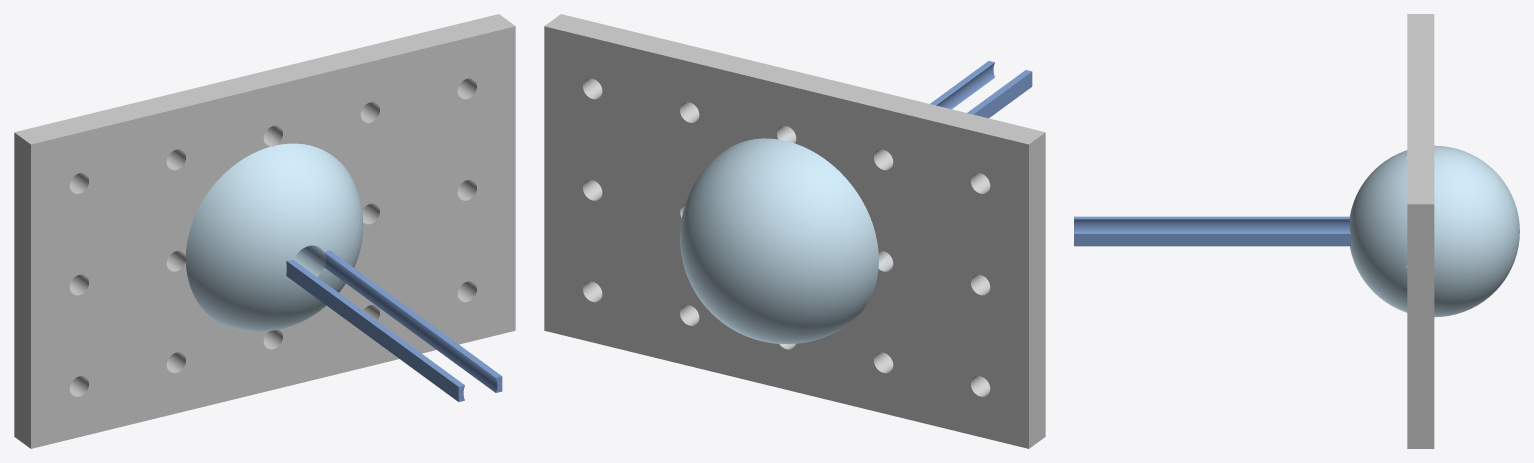
The picture shows the model from 3 angles, left to right: view 1: azimuth 30°, elevation 25°; view 2: azimuth 150°, elevation 25°; view 3: azimuth 270°, elevation 25°; orthographic projection. The views are drawn at different scales.
Parts seen in each view (by area): view 1: Part 2, Part 1, Part 4, Part 5; view 2: Part 2, Part 1, Part 5, Part 4; view 3: Part 1, Part 2, Part 4, Part 5.
Boxes of the visible parts, <box> form: Part 2: <box>14,14,515,448</box>; Part 1: <box>168,130,363,331</box>; Part 4: <box>301,245,502,392</box>; Part 5: <box>286,260,464,401</box>; Part 2: <box>544,14,1045,448</box>; Part 1: <box>680,133,888,344</box>; Part 5: <box>967,70,1032,118</box>; Part 4: <box>930,61,994,109</box>; Part 1: <box>1350,145,1519,317</box>; Part 2: <box>1407,14,1434,448</box>; Part 4: <box>1074,231,1350,246</box>; Part 5: <box>1074,216,1349,231</box>.
Bounding box in the file's own units: 0.2 × 0.12 × 0.1981.
